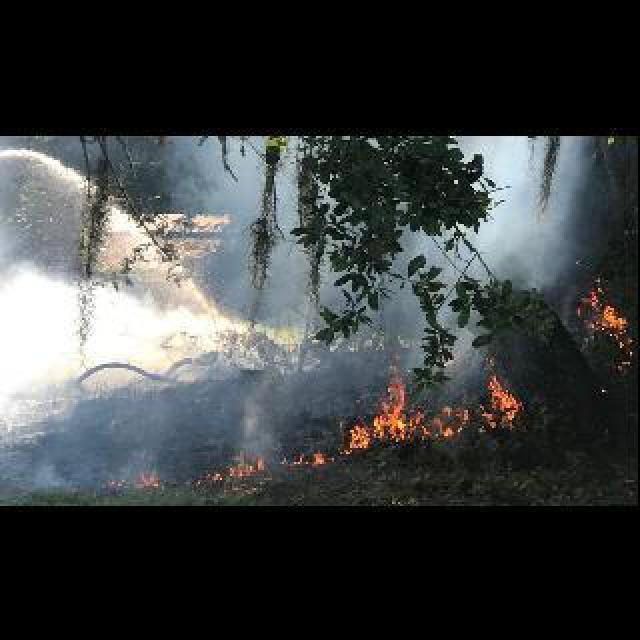Fire: (340, 370, 522, 456), (576, 276, 634, 366), (200, 452, 262, 484), (102, 466, 162, 492), (282, 444, 326, 468)
